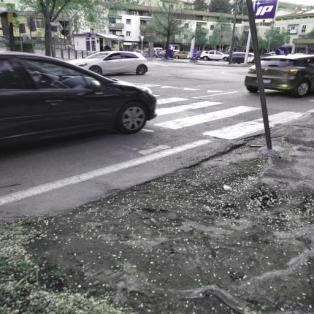Paso de Cebra: (154, 93, 314, 150)
